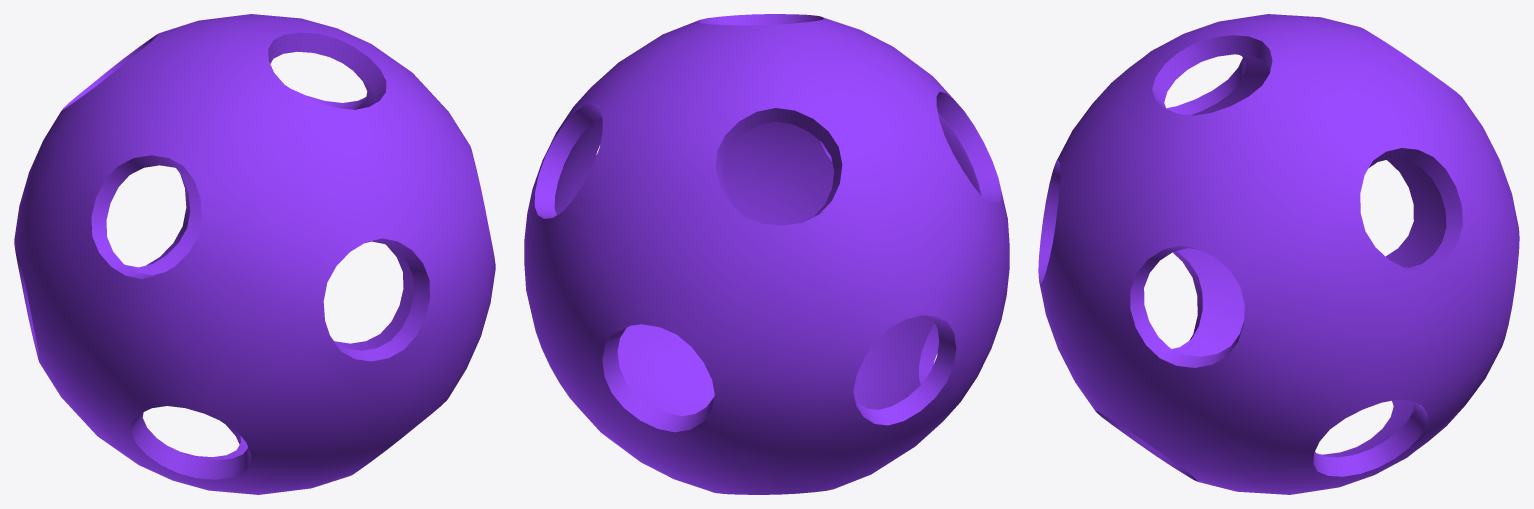
File: Pickleball_basketball.fbx
3 views of the same model, side by side, from view 1: azimuth 30°, elevation 25°; view 2: azimuth 150°, elevation 25°; view 3: azimuth 270°, elevation 25° (orthographic).
Visible parts, largest first — view 1: Pickleball_basketball; view 2: Pickleball_basketball; view 3: Pickleball_basketball.
Part boxes in pixels (x1,y1,x2,y2): Pickleball_basketball: (14,14,495,494); Pickleball_basketball: (524,14,1009,494); Pickleball_basketball: (1038,14,1519,494).
Size of the model in its own units: 92.7 by 92.6 by 92.6.
